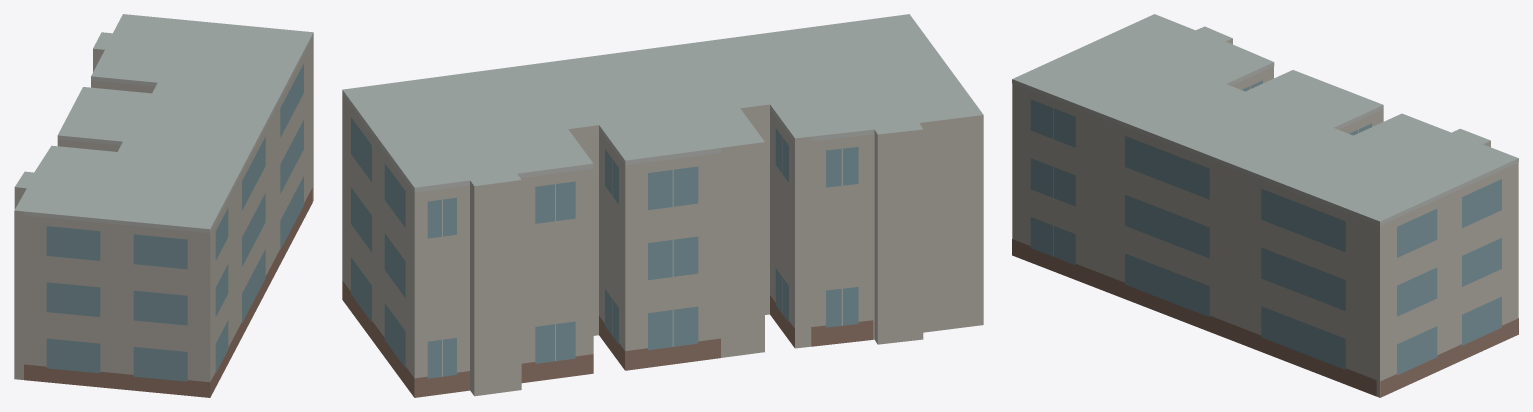
File: survey-upis-32474417.glb
3 renders of one model, left to right at view 1: azimuth 30°, elevation 25°; view 2: azimuth 150°, elevation 25°; view 3: azimuth 270°, elevation 25°, orthographic. The views are drawn at different scales.
Visible parts, largest first — view 1: survey-upis-32474417.tmp; view 2: survey-upis-32474417.tmp; view 3: survey-upis-32474417.tmp.
Part boxes in pixels (<box>): survey-upis-32474417.tmp: <box>14,14,313,397</box>; survey-upis-32474417.tmp: <box>342,14,983,397</box>; survey-upis-32474417.tmp: <box>1012,14,1518,397</box>.
Bounding box in the file's own units: 26.27 × 10.4 × 27.09.
